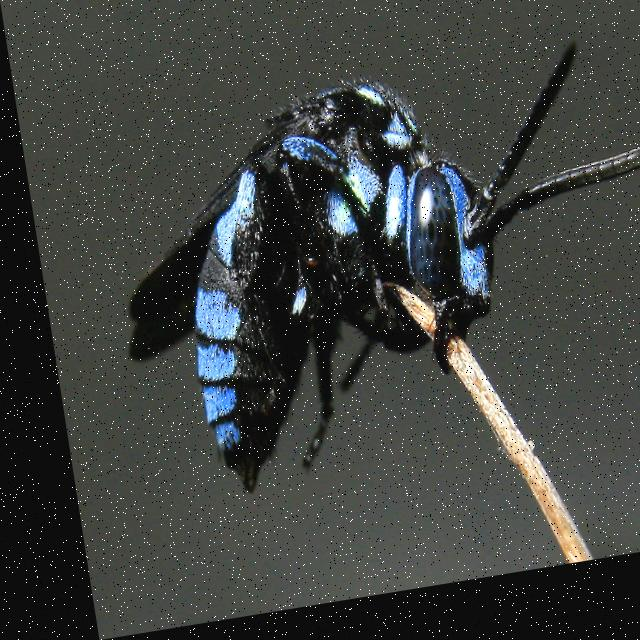Thyreus: (79, 31, 640, 522)
